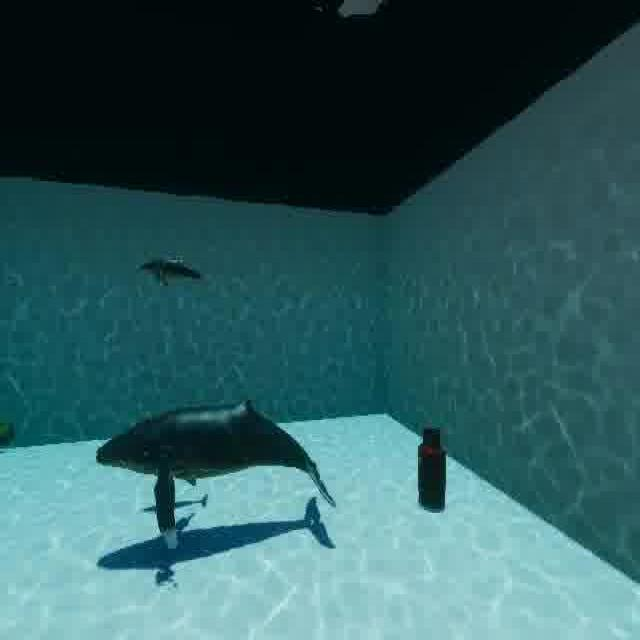Cylinder: (410, 408, 464, 524)
Whale: (90, 384, 351, 554), (128, 249, 214, 298)
